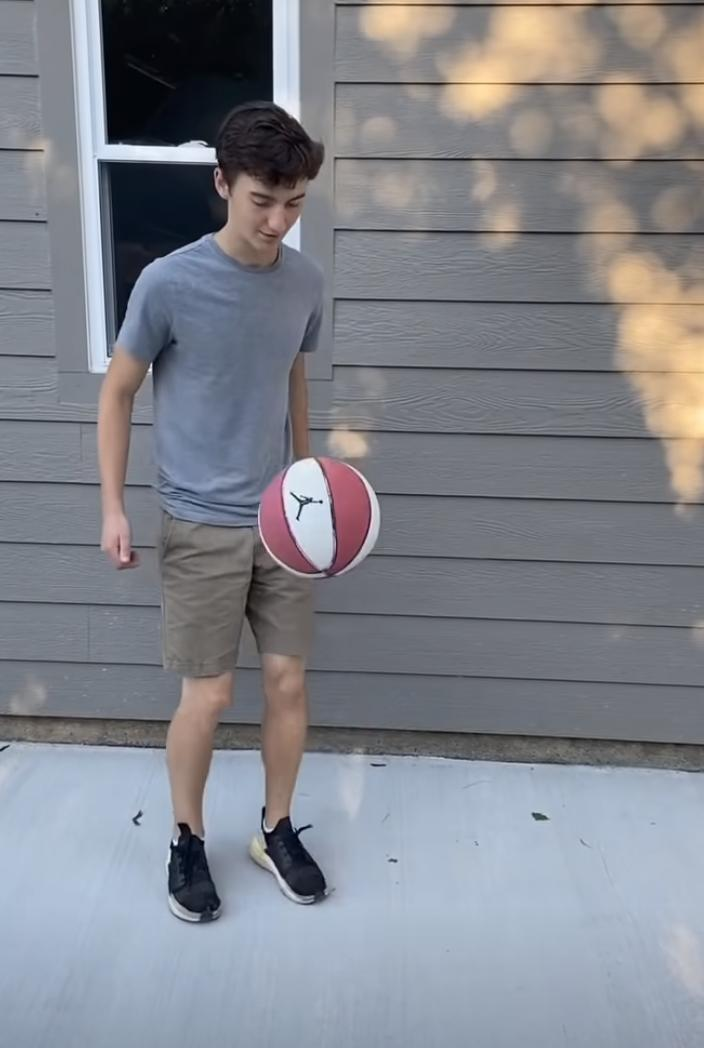ball: (258, 455, 374, 579)
foot: (249, 805, 326, 906), (162, 822, 223, 926)
person: (97, 103, 329, 928)
